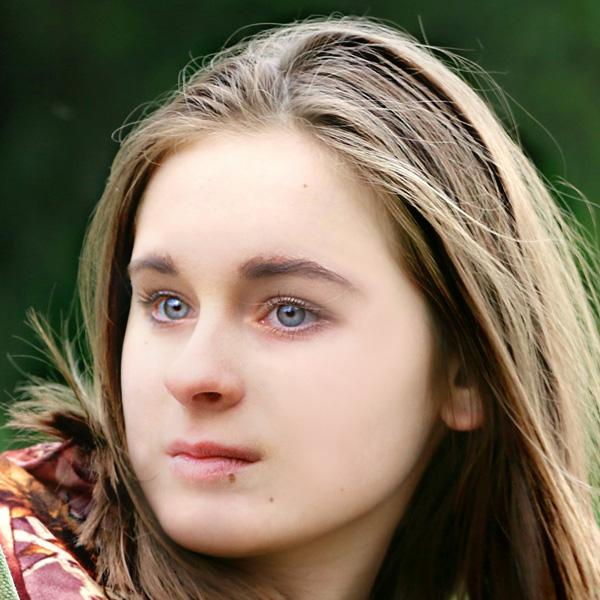Eyes: (240, 284, 349, 342), (134, 281, 209, 332)
